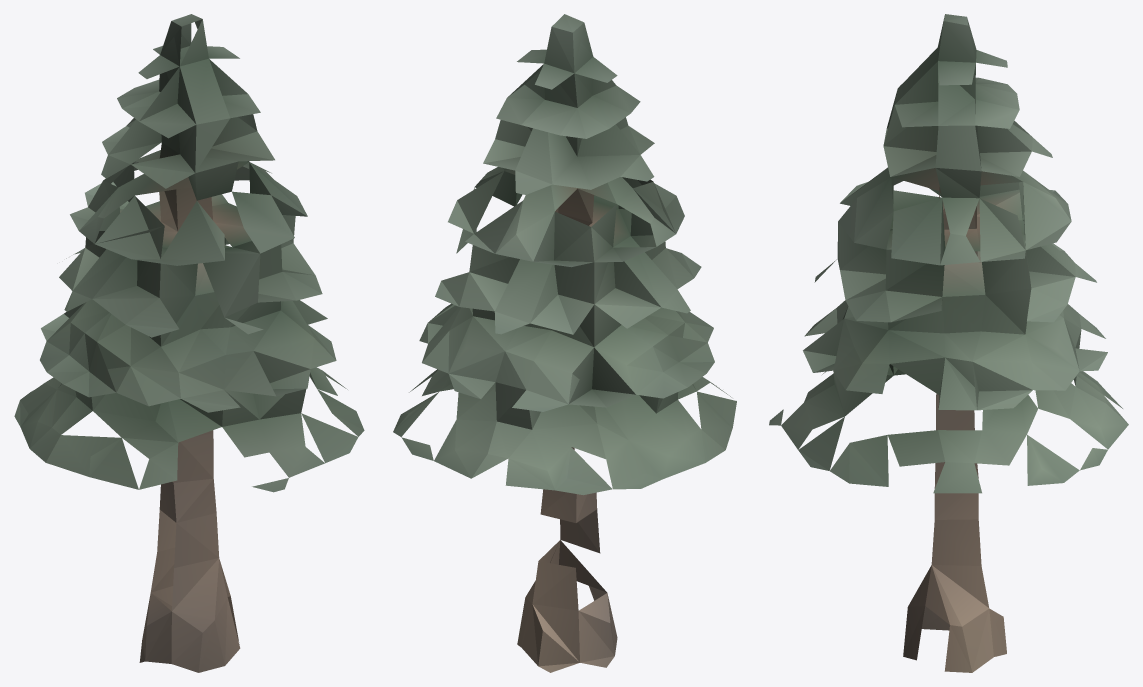
Rendered from prop_pinheiro.glb.
3 renders of one model, left to right at view 1: azimuth 30°, elevation 25°; view 2: azimuth 150°, elevation 25°; view 3: azimuth 270°, elevation 25°, orthographic.
Size of the model in its own units: 0.488 by 0.9572 by 0.4873.
